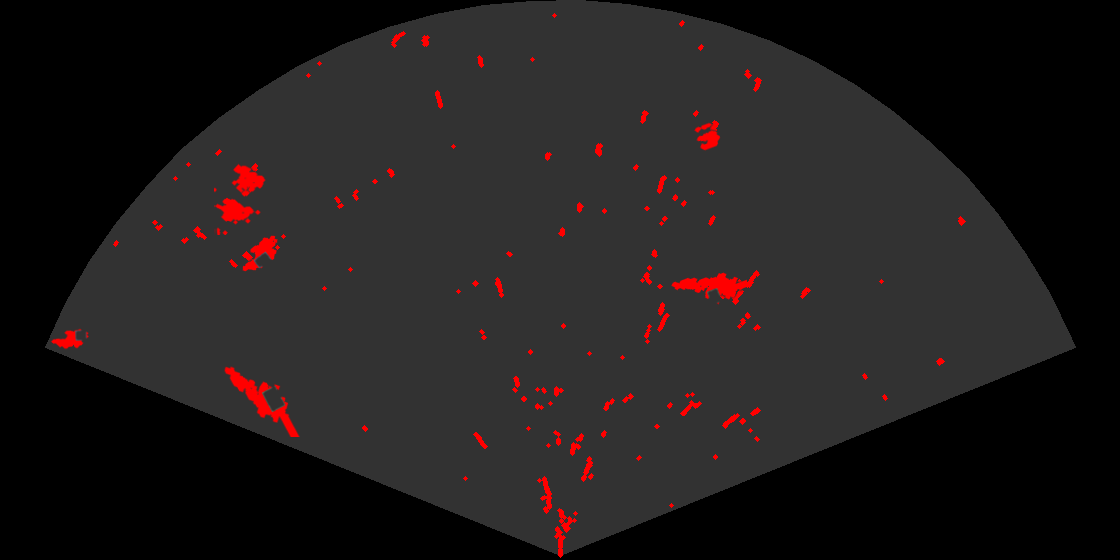AUV: (241, 234, 279, 273), (49, 327, 90, 350)
ball: (693, 121, 722, 152)
cage: (214, 162, 267, 235)
frogman: (223, 365, 301, 437), (670, 271, 747, 306)
